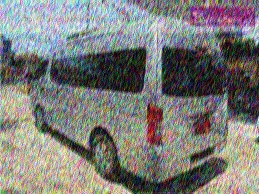van: (24, 17, 230, 174)
